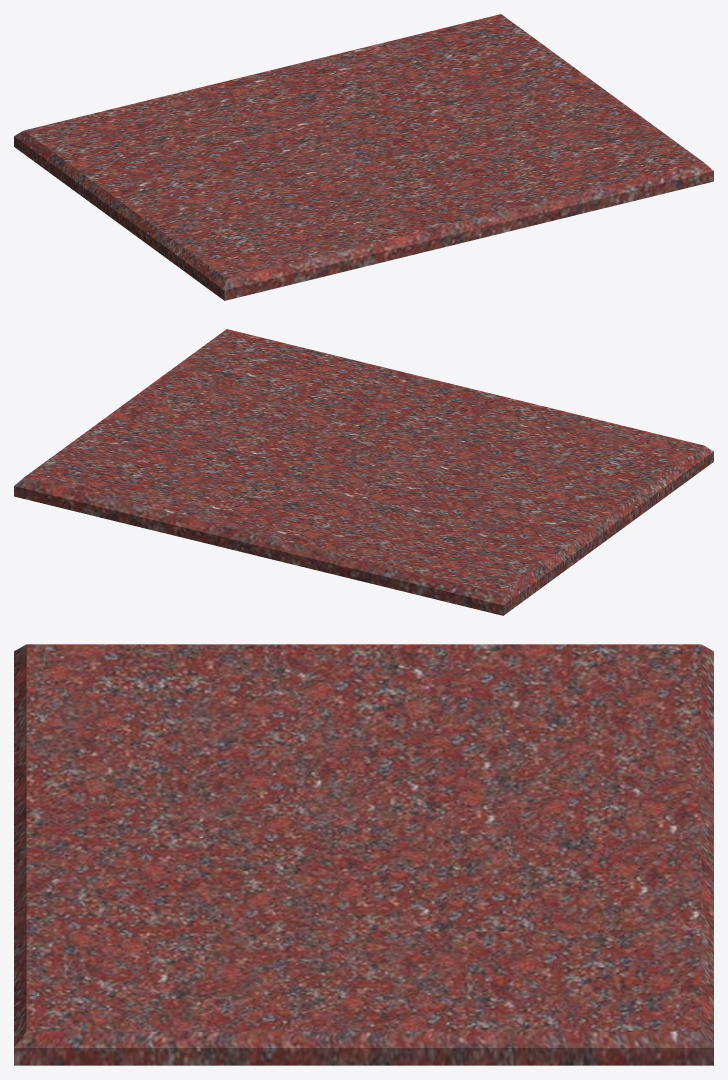
The model's file is MD-明神龛瓷砖.fbx.
3 renders of one model, top to bottom at view 1: azimuth 30°, elevation 25°; view 2: azimuth 150°, elevation 25°; view 3: azimuth 270°, elevation 25°, orthographic. The views are drawn at different scales.
Visible parts, largest first — view 1: MD-明神龛瓷砖; view 2: MD-明神龛瓷砖; view 3: MD-明神龛瓷砖.
Boxes of the visible parts, x1,y1,x2,y2 form: MD-明神龛瓷砖: (14, 14, 713, 300); MD-明神龛瓷砖: (14, 329, 713, 615); MD-明神龛瓷砖: (14, 644, 713, 1065).
Bounding box in the file's own units: 0.4662 × 0.3475 × 0.016.
